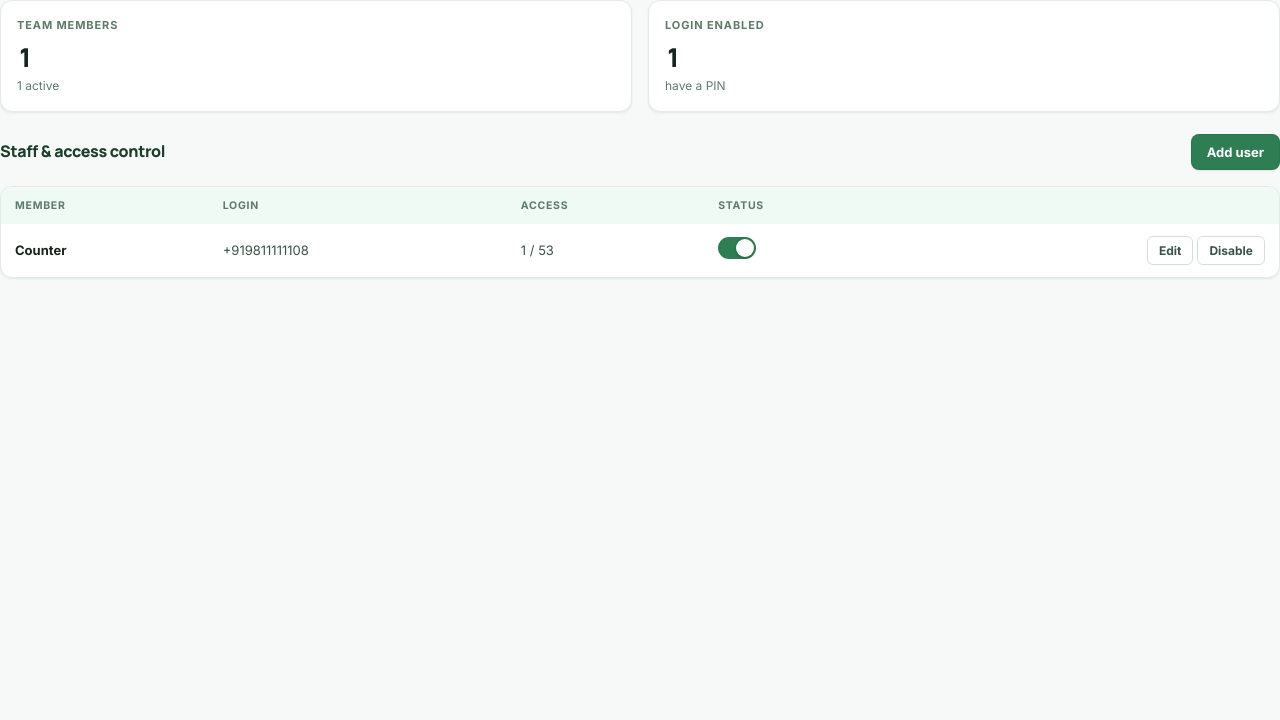
it: UsersPage › lists staff without a role field and shows the management permissions
Check: the text "Counter" is shown, box [1,224,209,277]
Check: the text "1 / 53" is shown, box [507,224,704,277]
Click the button "Add user" at (1235, 152), box [1191,134,1279,170]
(page scrolled)
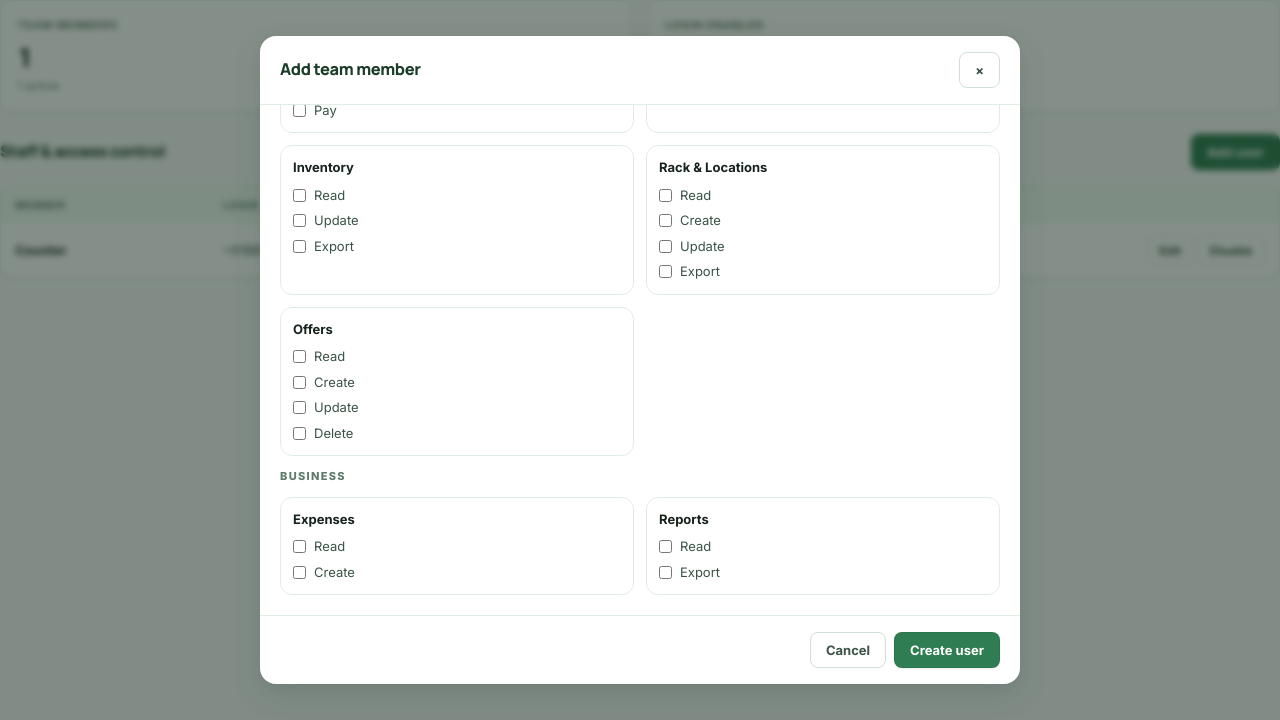
Check: the dialog "Add team member" is shown, box [260,36,1020,684]
Check: the checkbox named "Distributors Pay" is shown, box [293,105,306,117]
Check: the checkbox named "Inventory Export" is shown, box [293,240,306,253]
